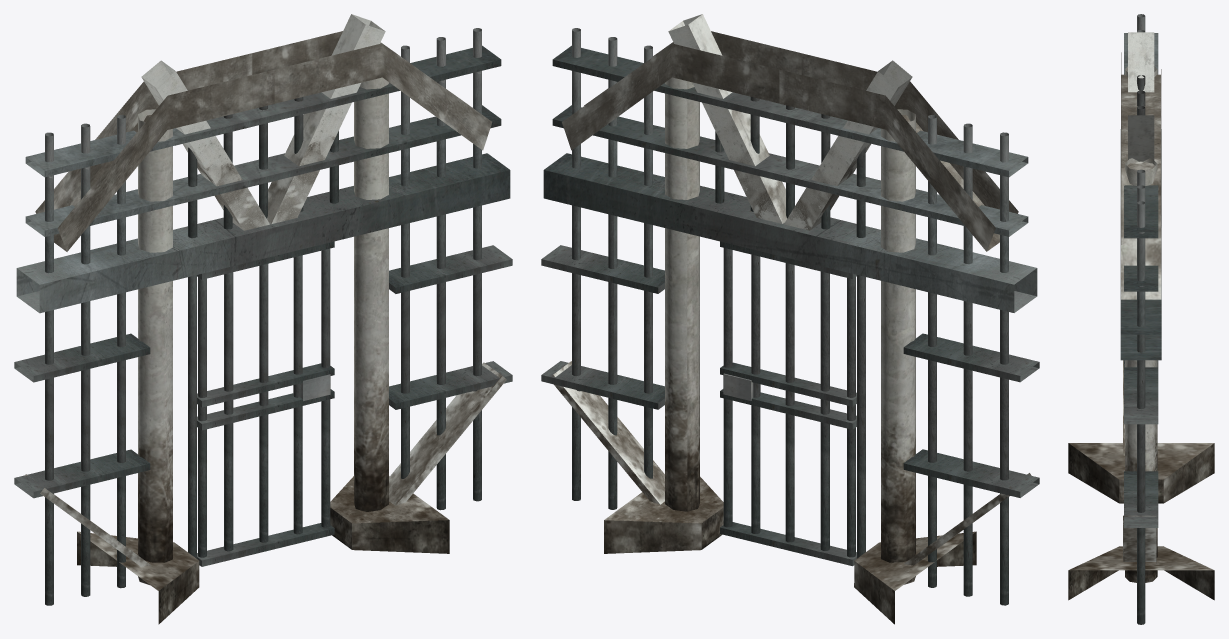
The model's file is Strct_Lvl1_ZoneA_Gate_Small_Closed.fbx.
3 views of the same model, side by side, from view 1: azimuth 30°, elevation 25°; view 2: azimuth 150°, elevation 25°; view 3: azimuth 270°, elevation 25° (orthographic). The views are drawn at different scales.
Visible parts, largest first — view 1: polySurface44; view 2: polySurface44; view 3: polySurface44.
Part boxes in pixels (<box>): polySurface44: <box>14,14,512,624</box>; polySurface44: <box>541,14,1039,624</box>; polySurface44: <box>1068,14,1214,624</box>.
Size of the model in its own units: 437 by 451 by 129.
